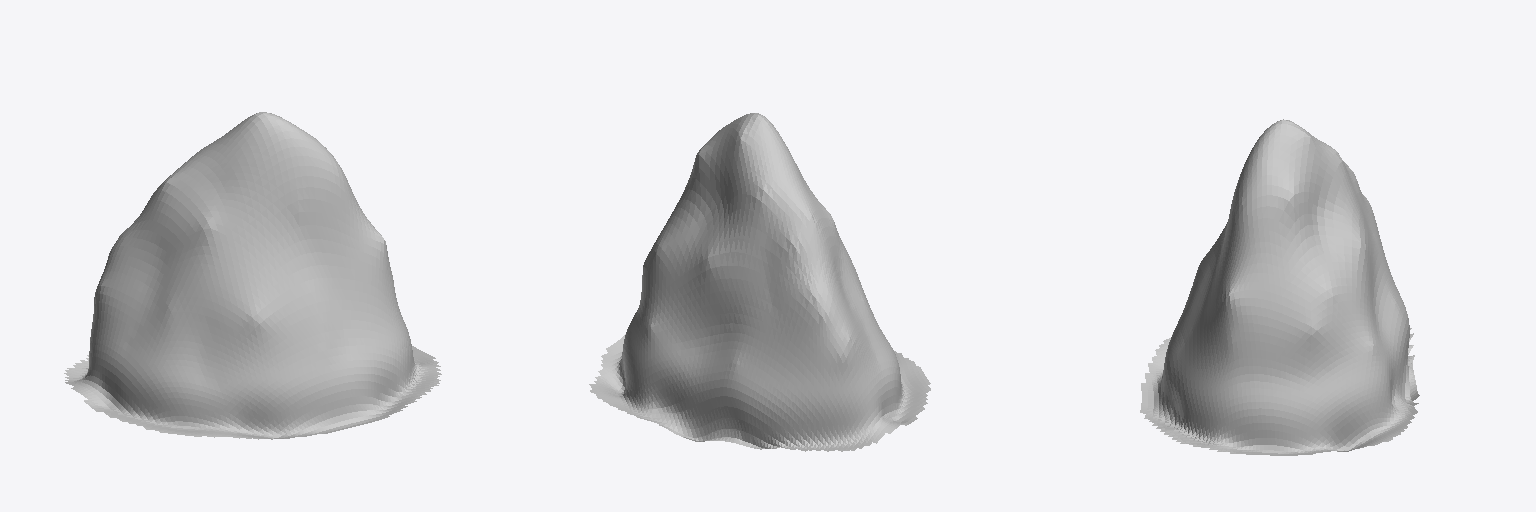
The model's file is rock2.obj.
3 views of the same model, side by side, from view 1: azimuth 30°, elevation 25°; view 2: azimuth 150°, elevation 25°; view 3: azimuth 270°, elevation 25° (orthographic).
Parts seen in each view (by area): view 1: Plane; view 2: Plane; view 3: Plane.
Boxes of the visible parts, x1,y1,x2,y2 form: Plane: [64, 112, 441, 439]; Plane: [589, 113, 930, 451]; Plane: [1140, 119, 1419, 455].
Bounding box in the file's own units: 15.49 × 13.26 × 12.06.